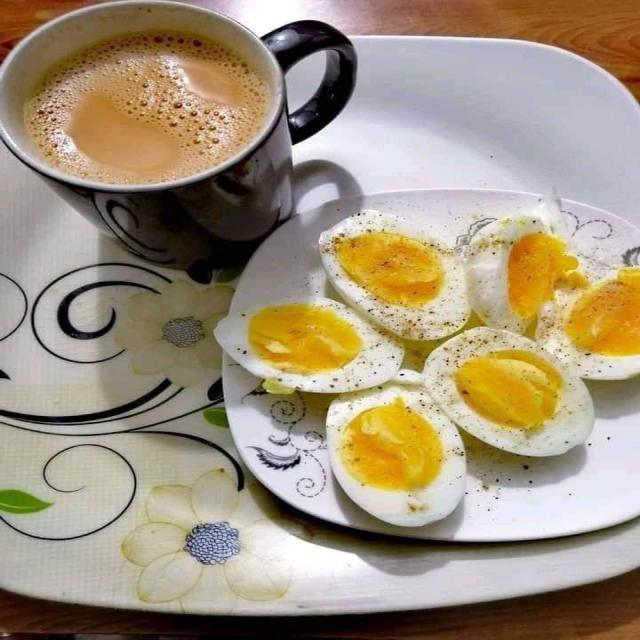eggs: (240, 219, 640, 543)
